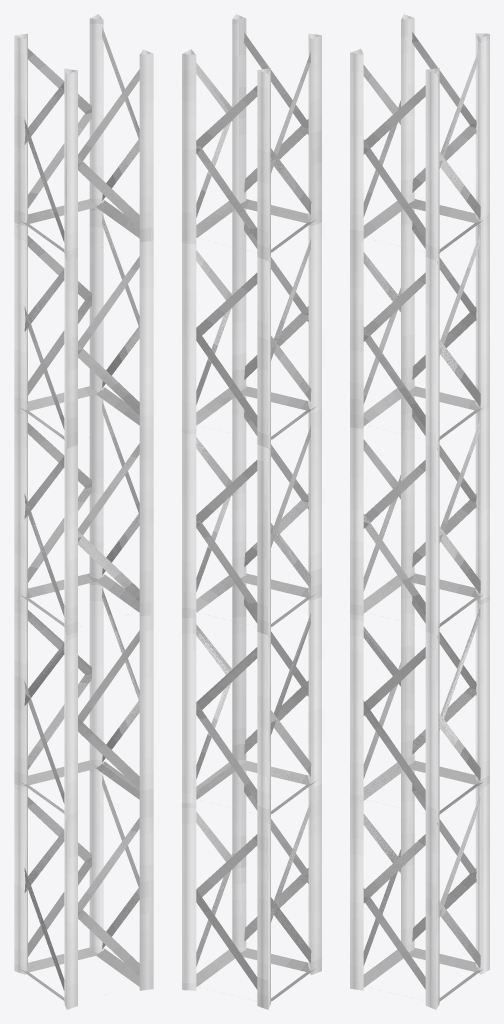
The model's file is RectStructure5Pieces.glb.
The picture shows the model from 3 angles, left to right: view 1: azimuth 30°, elevation 25°; view 2: azimuth 150°, elevation 25°; view 3: azimuth 330°, elevation 25°; orthographic projection.
Parts seen in each view (by area): view 1: RectStructure5Pieces; view 2: RectStructure5Pieces; view 3: RectStructure5Pieces.
Boxes of the visible parts, box(x1,y1,x2,y2) form: RectStructure5Pieces: box(14, 14, 153, 1009); RectStructure5Pieces: box(182, 14, 321, 1009); RectStructure5Pieces: box(350, 14, 489, 1009).
Size of the model in its own units: 1.04 by 10.77 by 1.14.
Materials: 1 (1 with a texture image).
